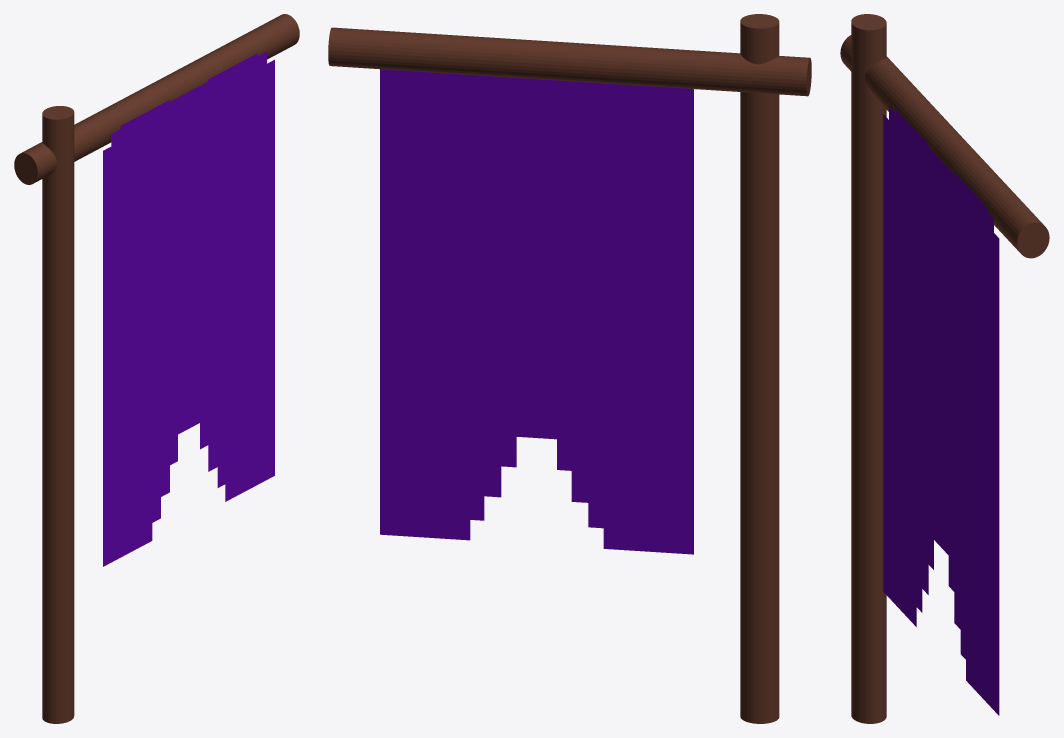
File: Drapeau violet.fbx
The picture shows the model from 3 angles, left to right: view 1: azimuth 30°, elevation 25°; view 2: azimuth 150°, elevation 25°; view 3: azimuth 270°, elevation 25°; orthographic projection. The views are drawn at different scales.
Parts seen in each view (by area): view 1: Plan.008; view 2: Plan.008; view 3: Plan.008.
Part boxes in pixels (box(x1,y1,x2,y2)): Plan.008: box(14, 14, 299, 723); Plan.008: box(328, 14, 811, 723); Plan.008: box(840, 14, 1049, 723).
Size of the model in its own units: 1.08 by 0.4907 by 1.8.
